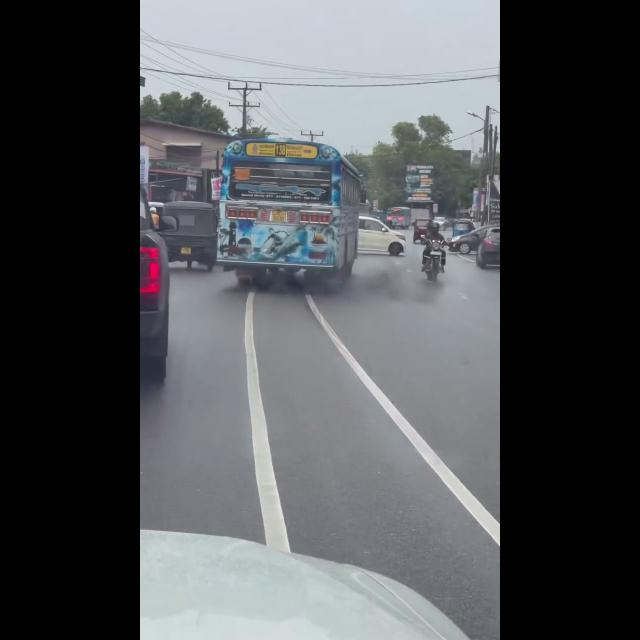bus: (226, 140, 342, 284)
double_solid_line: (210, 319, 498, 569)
helmet: (434, 219, 442, 235)
motorcycle: (424, 248, 444, 284)
person: (424, 224, 440, 262)
three_wheeler: (174, 202, 212, 266)
